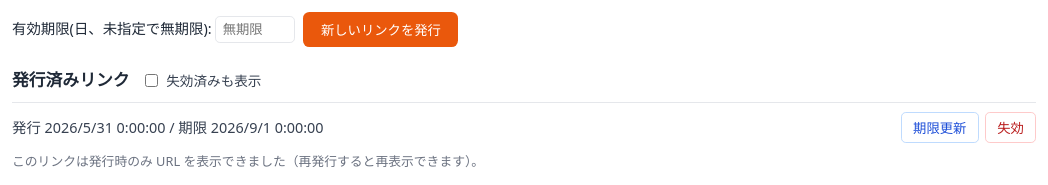
Test case: MagicLinkManager › 期限更新: インライン日数入力 → 更新で extend API を呼び行の期限を差し替える
Click the button "期限更新".
click(940, 128)  # box [901,112,979,143]
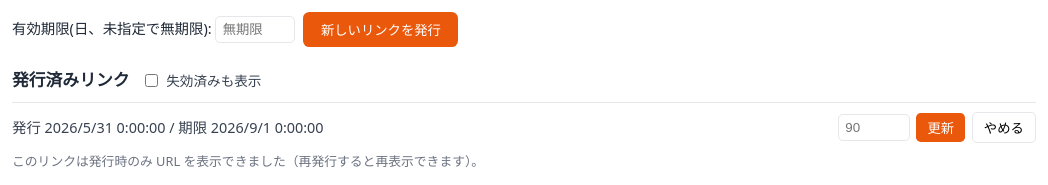
Type "60" into the number field named "新しい有効日数（今日から）".
click(874, 128); type("60")  # box [838,114,910,141]
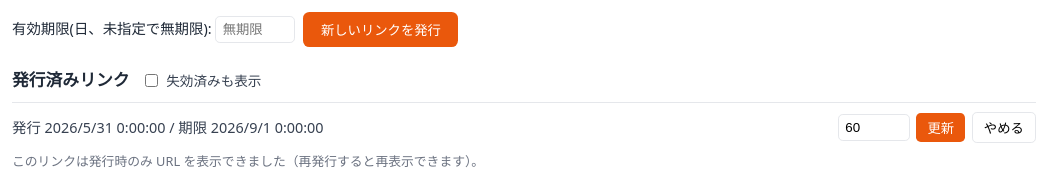
Click the button "更新".
click(941, 128)  # box [916,114,965,142]
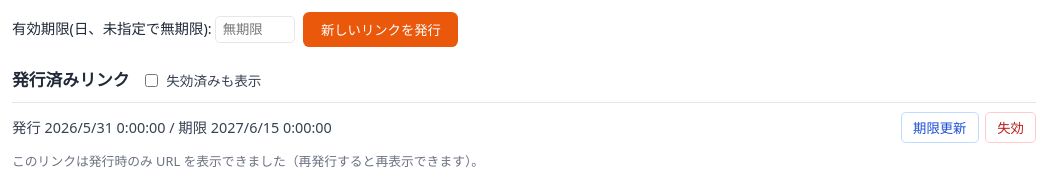
Check: the button "期限更新" is shown, box [901,112,979,143]
Check: the list item shows "2027", box [178,118,332,137]
